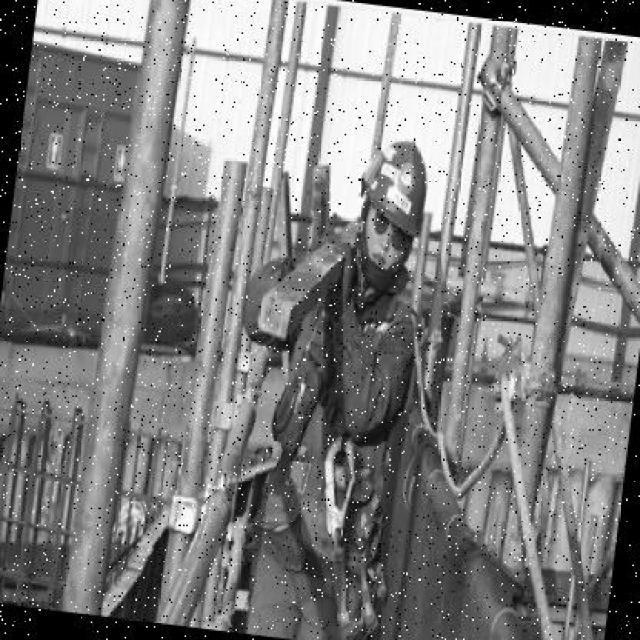Arnes_seguridad: (251, 261, 420, 637)
